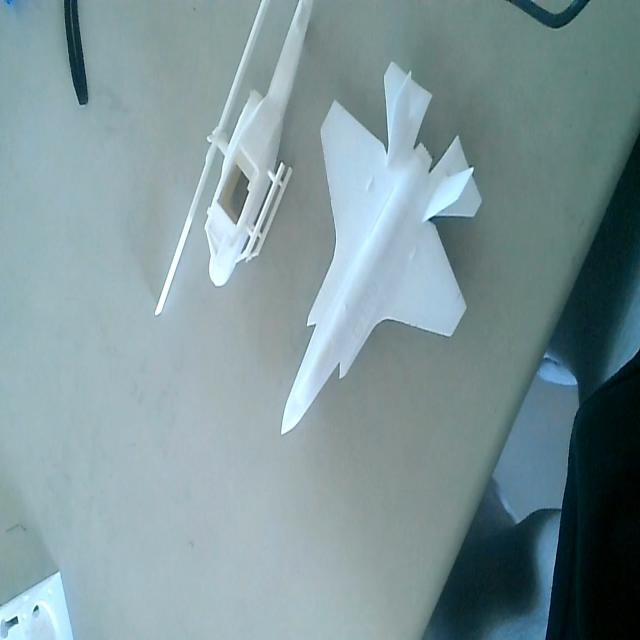Helicopter: (153, 0, 313, 324)
Jet: (281, 60, 484, 439)
